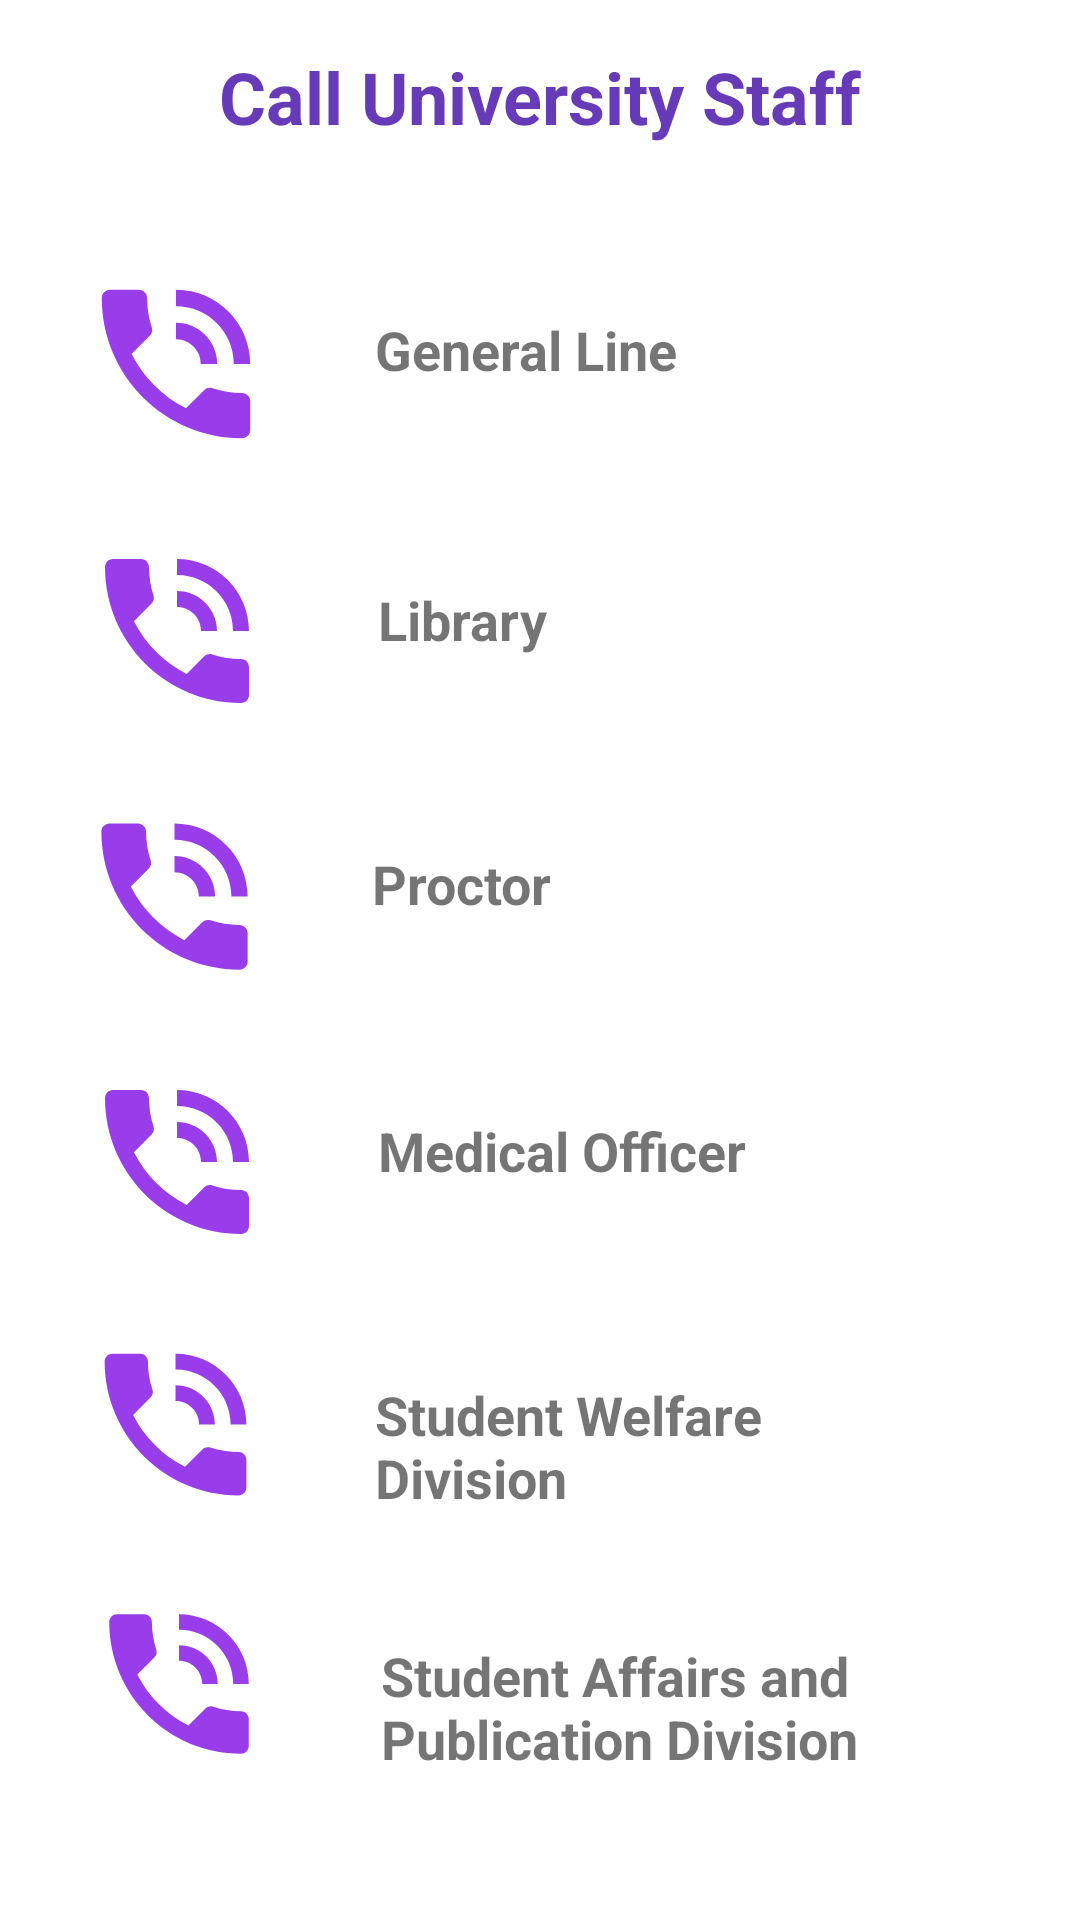

Named icons in this screenshot (1080×1920) and their bounding boxes, (x1, y1, x2, y2):
Phone: (101, 289, 251, 439), (105, 559, 249, 703), (101, 823, 248, 970), (105, 1090, 249, 1234), (104, 1353, 247, 1496), (109, 1614, 249, 1754)
